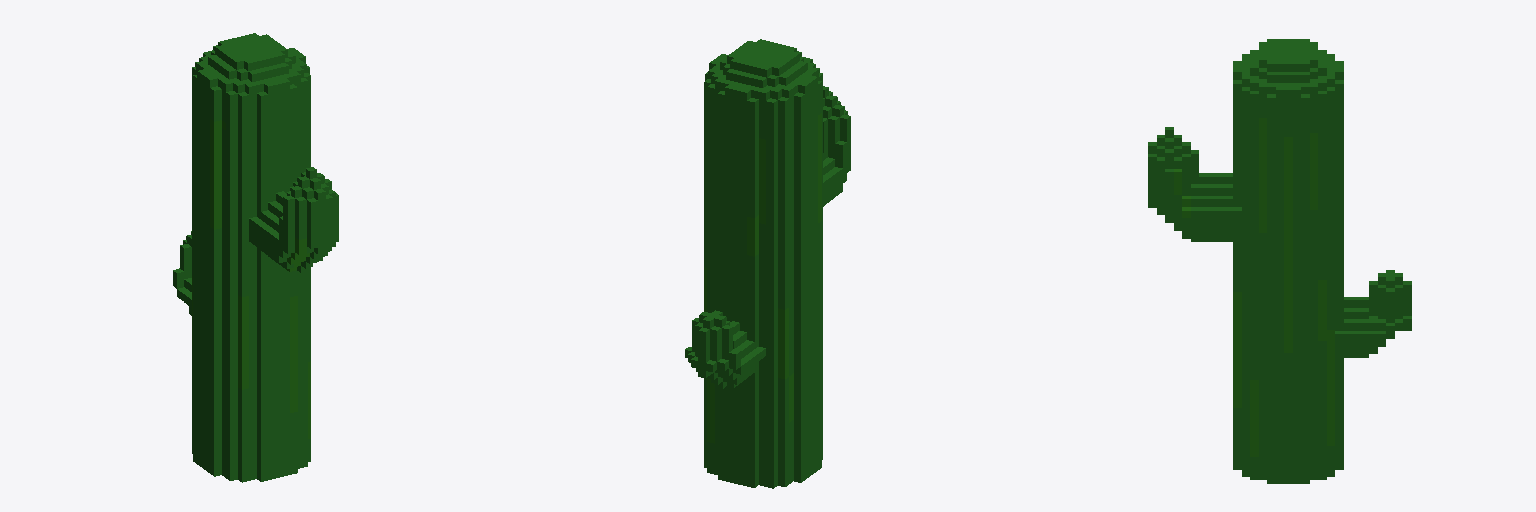
3 renders of one model, left to right at view 1: azimuth 30°, elevation 25°; view 2: azimuth 150°, elevation 25°; view 3: azimuth 270°, elevation 25°, orthographic.
Parts seen in each view (by area): view 1: object 1; view 2: object 1; view 3: object 1.
Part boxes in pixels (left/top/right/bottom): object 1: left=173, top=33, right=338, bottom=482; object 1: left=685, top=39, right=850, bottom=488; object 1: left=1148, top=39, right=1411, bottom=483.
Bounding box in the file's own units: 1.3 × 5.3 × 3.1.
Materials: 1 (1 with a texture image).